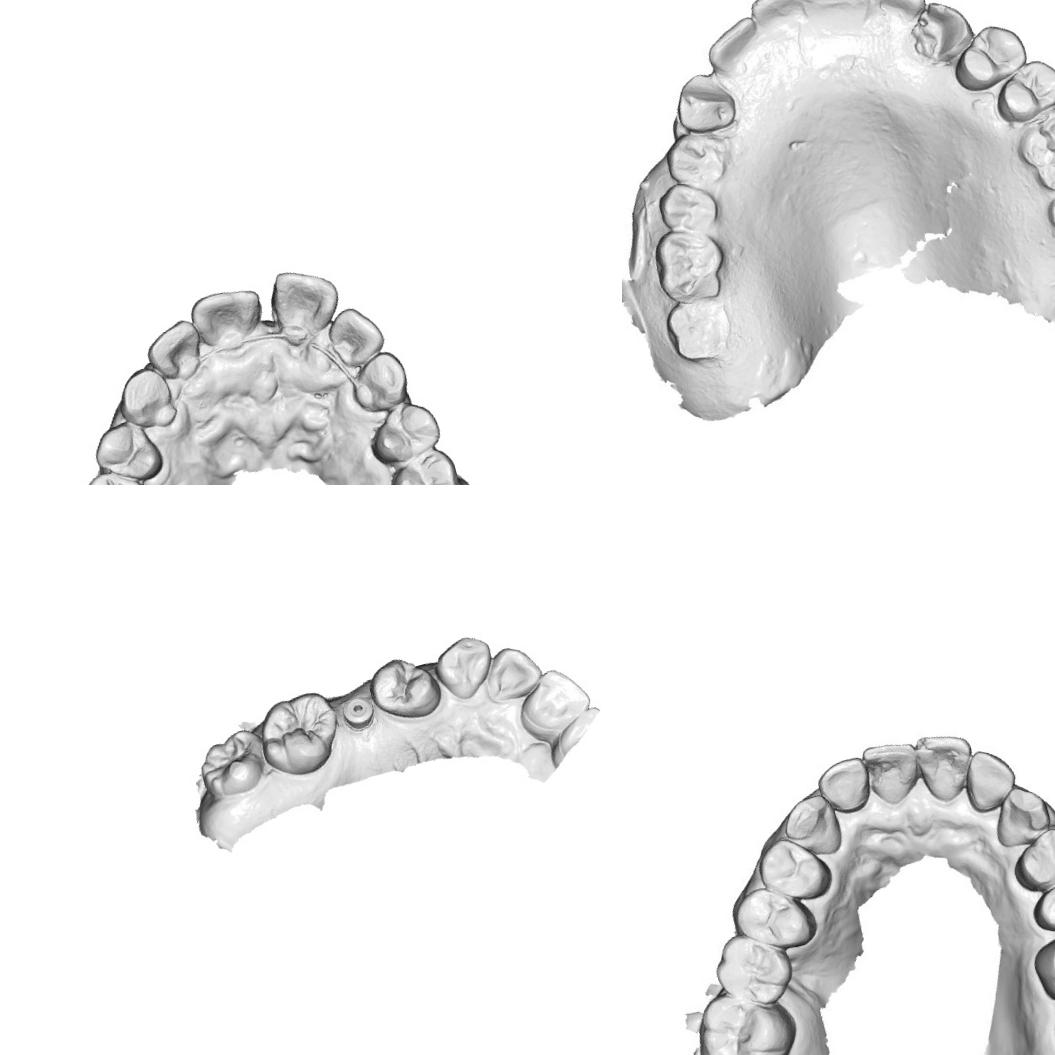canine: (340, 344, 417, 421), (667, 62, 740, 140), (426, 630, 500, 706), (110, 362, 182, 438), (780, 788, 846, 865), (985, 783, 1055, 855), (906, 0, 974, 63)
implant: (336, 690, 380, 738)
incisor: (259, 256, 349, 352), (507, 660, 599, 747), (184, 278, 271, 358), (861, 732, 934, 815), (137, 312, 209, 390), (321, 298, 390, 373), (910, 724, 978, 800), (476, 638, 546, 706), (960, 745, 1018, 811), (702, 17, 768, 74), (815, 756, 871, 815), (752, 0, 810, 31), (866, 0, 925, 27), (803, 0, 869, 15)
molar: (250, 684, 350, 784), (692, 980, 802, 1055), (712, 927, 796, 1010), (190, 723, 273, 803), (653, 229, 728, 306), (663, 294, 735, 367), (1019, 916, 1055, 1010), (1017, 105, 1055, 184)
premolar: (360, 393, 448, 473), (361, 647, 446, 729), (83, 412, 169, 485), (757, 829, 832, 912), (734, 880, 810, 953), (952, 19, 1028, 85), (666, 130, 734, 190), (1004, 818, 1055, 898), (998, 55, 1055, 122), (380, 443, 465, 485), (656, 178, 714, 238), (70, 460, 162, 485), (1026, 871, 1055, 935)
